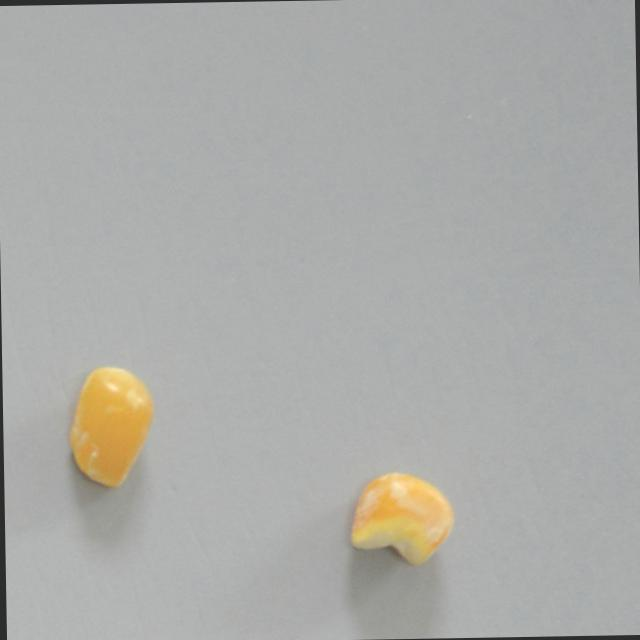pelicula: (50, 378, 174, 474), (349, 464, 449, 576)
